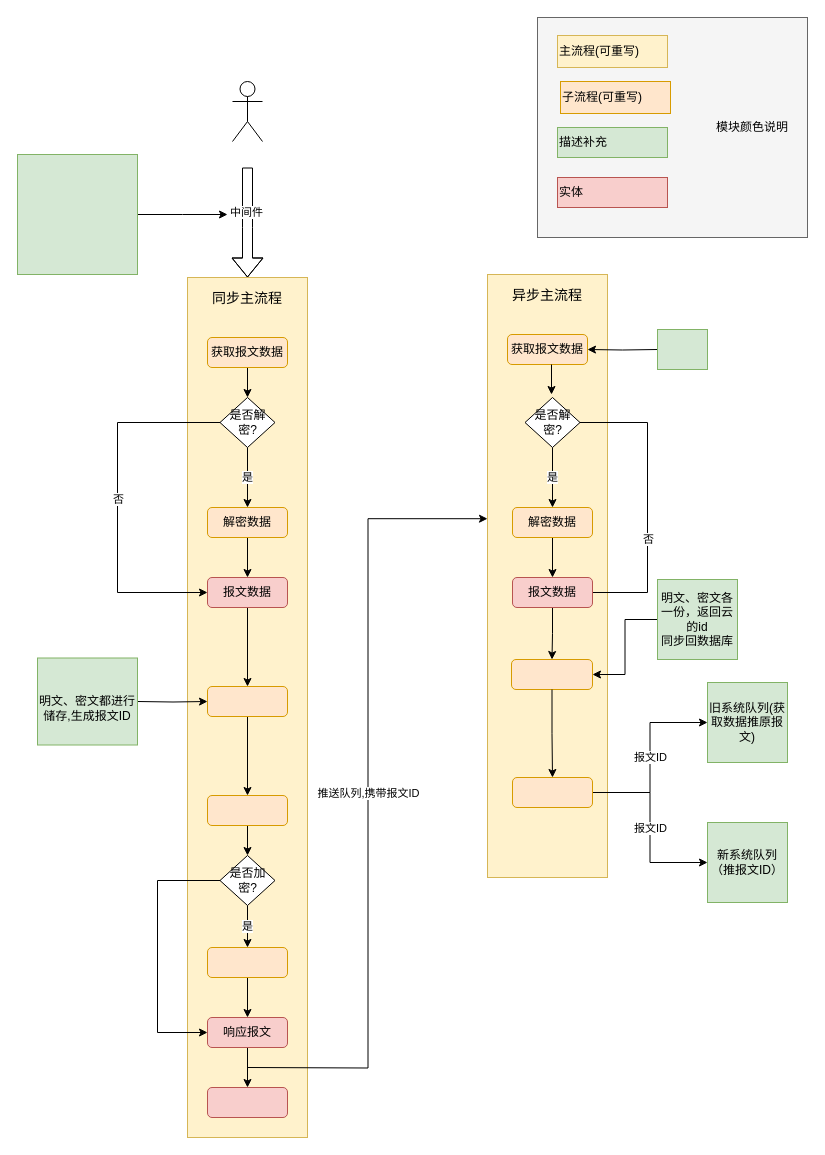
This 825x1155 diagram has some shape labels left out. Here are the shapes that lost their labels. From the top down, the centre of each, then its label:
At pixel 247 111: "保司回传".
At pixel 77 214: "1.生成request_no、request_at等信息 2.通过路由获取到配置信息等等".
At pixel 682 349: "通过报文ID".
At pixel 551 674: "上传到云".
At pixel 247 701: "储存到本地,数据库".
At pixel 247 810: "构建响应报文".
At pixel 552 792: "推送下游数据".
At pixel 247 962: "加密数据".
At pixel 247 1102: "响应".
